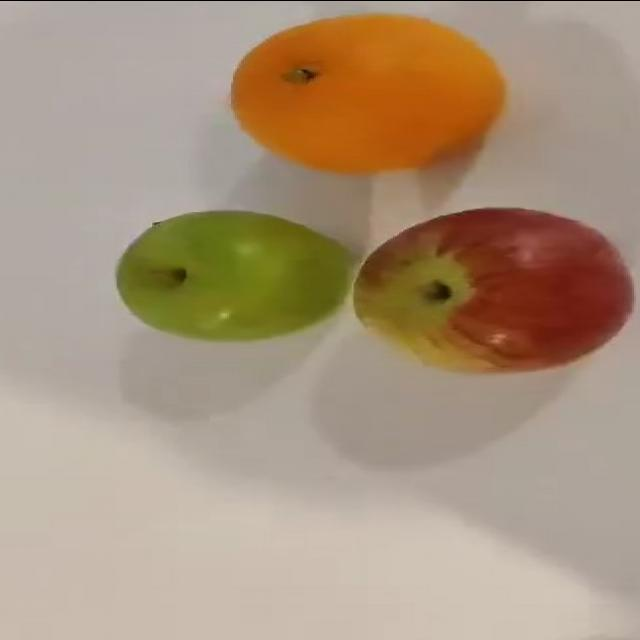Apple: (352, 206, 634, 374), (114, 208, 353, 342)
Orange: (228, 13, 505, 176)
